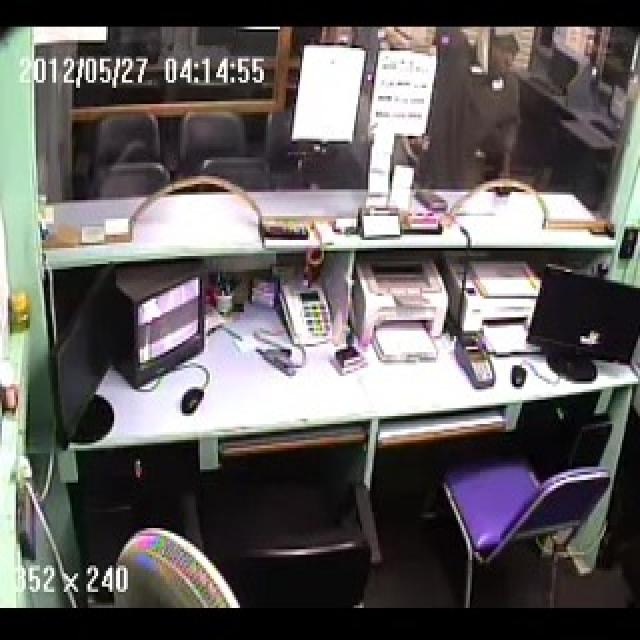thief: (419, 19, 530, 186)
